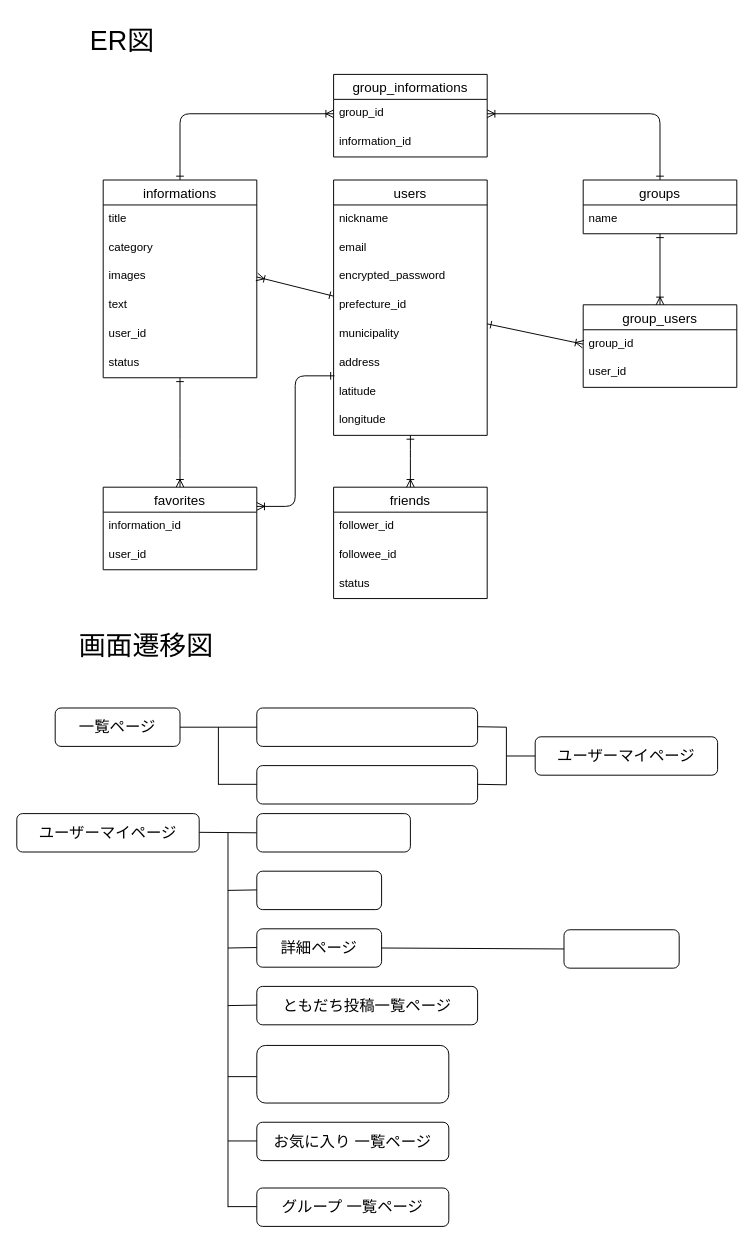
The diagram is 754 pixels wide and 1243 high, and some of its shapes have lost their labels. The shapes that lost their labels are listed below. From the top down, each one's centre as x and y in pixels, then its label:
[367,726]: ユーザーログインページ
[367,784]: ユーザー新規登録ページ
[333,832]: ユーザー編集ページ
[319,890]: 投稿ページ
[621,948]: 編集ページ
[352,1073]: 申請中一覧ページ ともだち 一覧ページ
